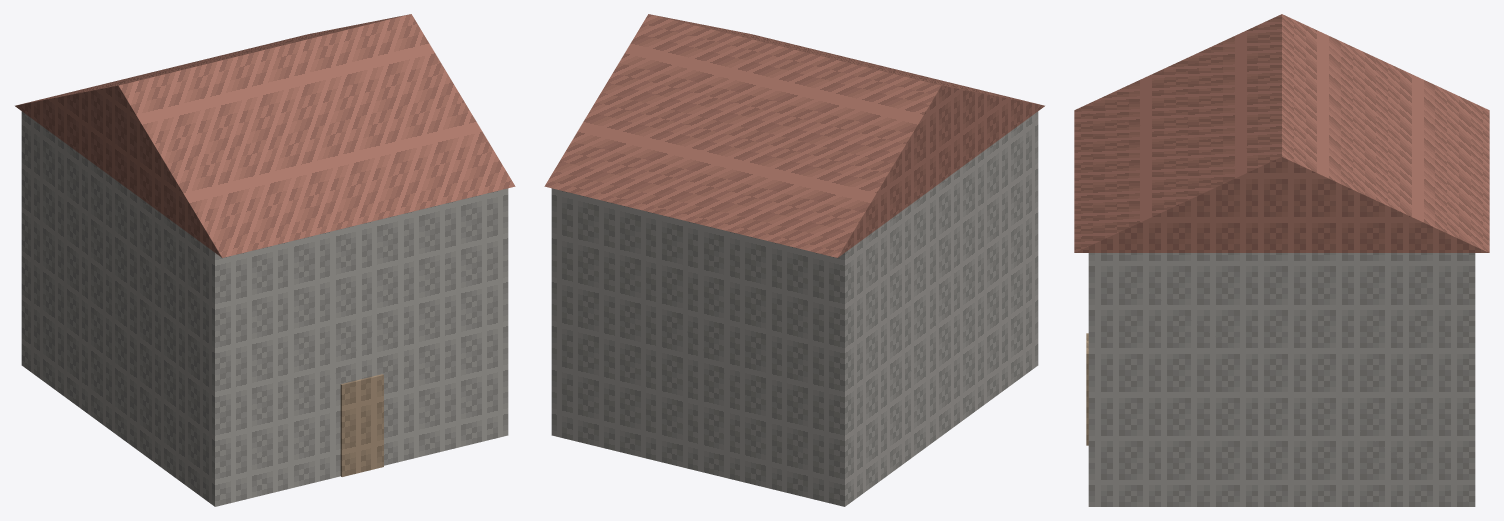
Rendered from house_row.glb.
3 renders of one model, left to right at view 1: azimuth 30°, elevation 25°; view 2: azimuth 150°, elevation 25°; view 3: azimuth 270°, elevation 25°, orthographic.
Size of the model in its own units: 7 by 8 by 8.6.
3 materials, 3 textured.
